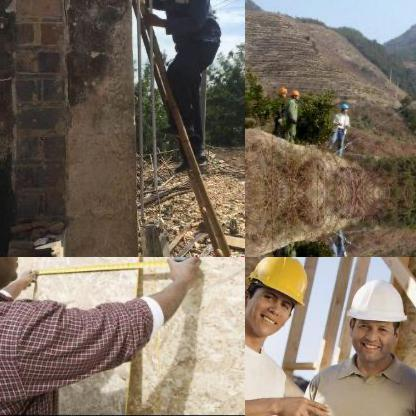Helmet: (330, 271, 414, 372), (245, 257, 314, 340), (277, 82, 287, 96), (338, 100, 348, 112), (291, 88, 299, 100)
